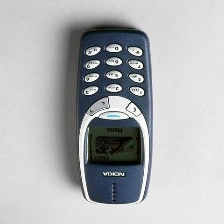phone: (71, 24, 158, 210)
